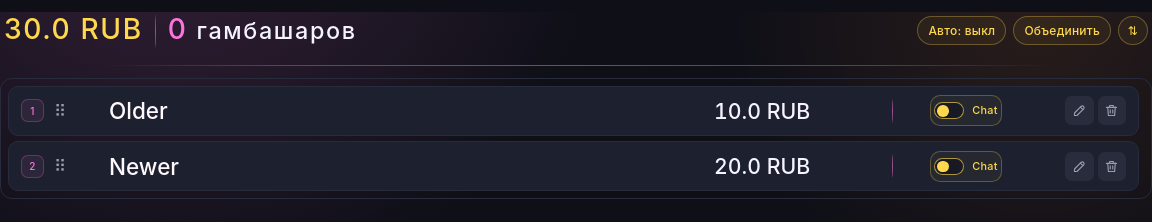
Test: collapsible sections › switches the visual active-entry order without requesting a queue reorder
This screenshot has width=1152, height=222.
Expected: the text with class "row-index" reads "1", [30,105,34,117]
Expected: the text with class "row-index" reads "2", [29,160,35,172]
What coordinates should you click on to do the following:
click the button named "Показать сначала новые"
I would click on:
 (1133, 30)
Its box is [1118,16,1148,45].
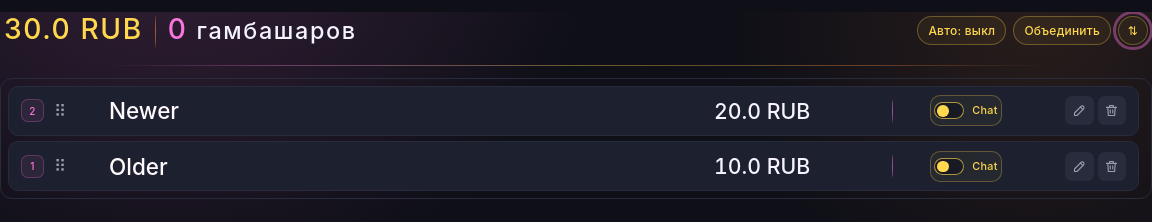
Expected: the text with class "row-index" reads "2", [29,105,35,117]
Now the button named "Показать сначала старые" is shown, box [1118,16,1148,45]
